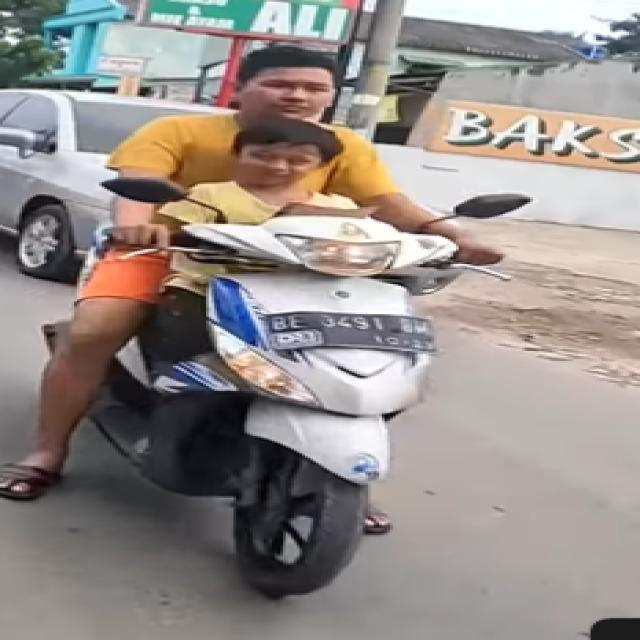Number Plate: (264, 312, 433, 352)
Rearview Mirror: (101, 177, 187, 203), (454, 194, 530, 218), (0, 127, 39, 157)
